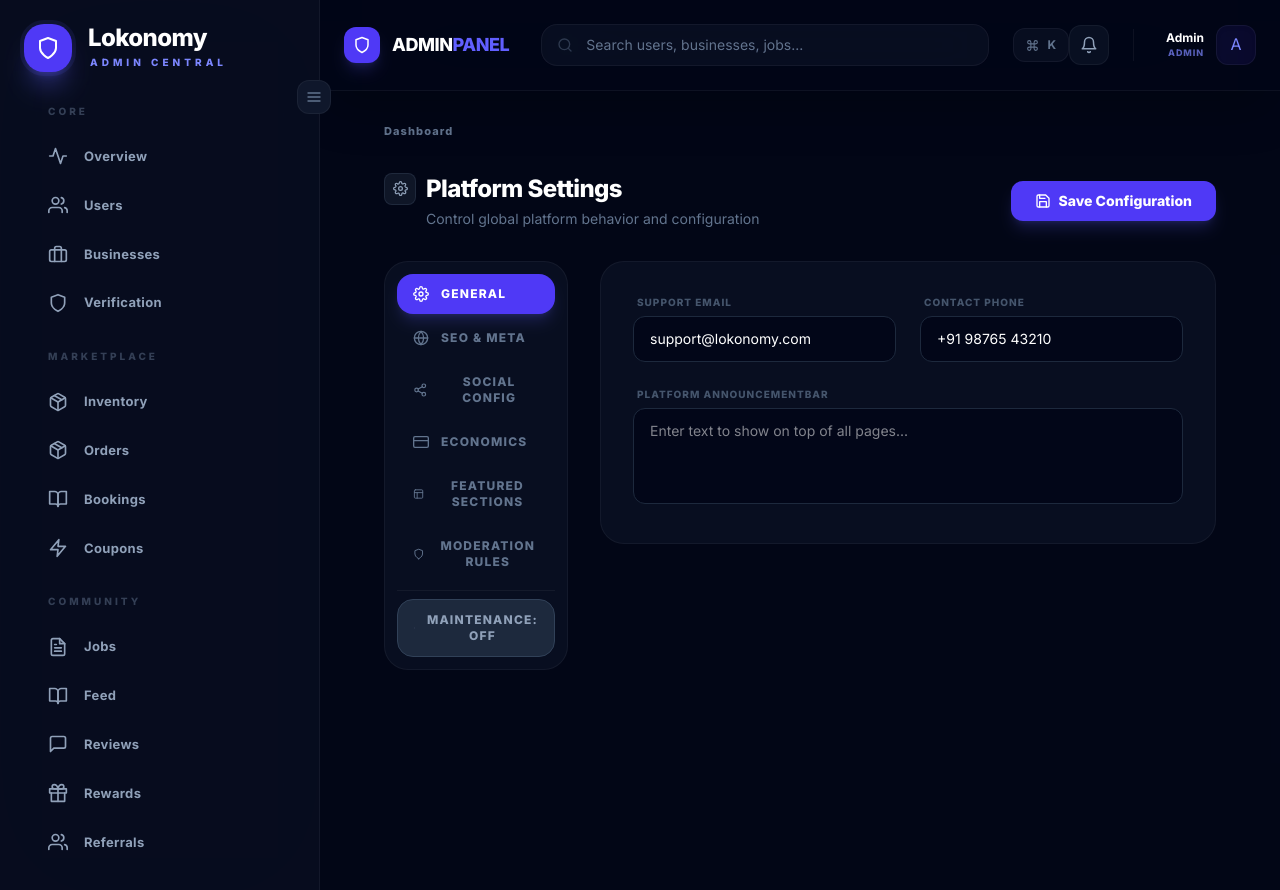
Test: AdminSettings Component › switches to Social Config tab and displays social links
The image size is (1280, 890).
Expected: the heading "Platform Settings" is shown, [426, 173, 622, 205]
Click the button "Social Config": (476, 390) [397, 362, 555, 418]
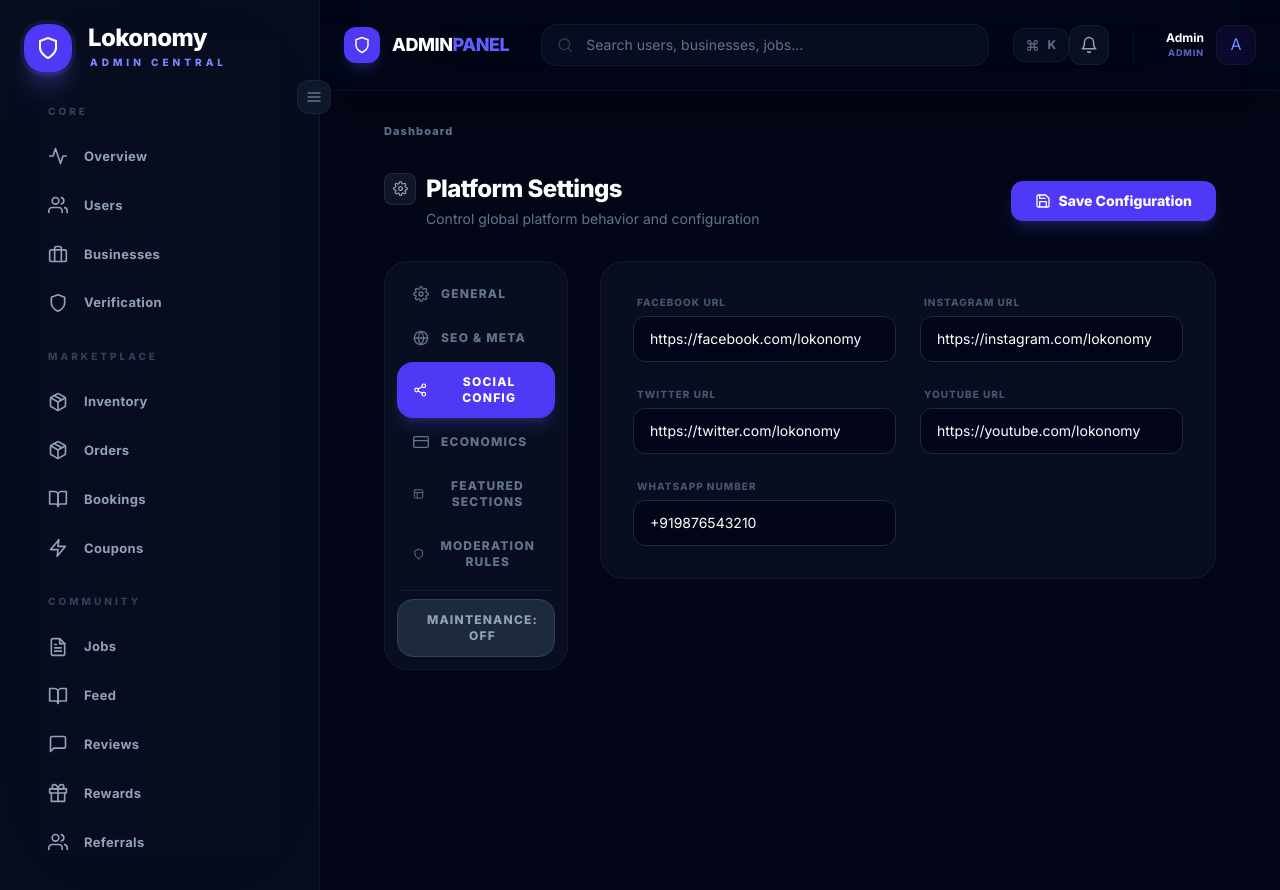
Expected: the field showing "https://facebook.com/lokonomy" below "Facebook URL" is shown, [633, 316, 896, 362]
Expected: the field showing "+919876543210" below "WhatsApp Number" is shown, [633, 500, 896, 546]
